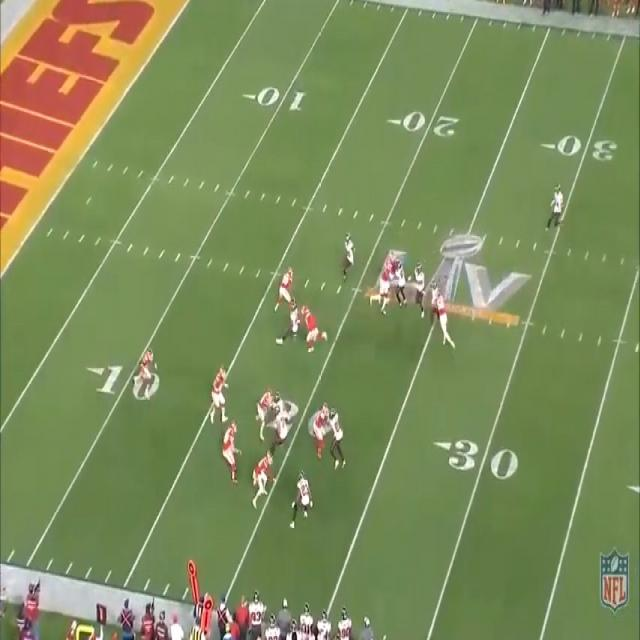players: (300, 299, 340, 363), (128, 335, 161, 402), (218, 418, 249, 487), (251, 449, 283, 514), (208, 355, 236, 422), (270, 292, 297, 355), (544, 166, 568, 236), (328, 403, 352, 472), (288, 467, 308, 533), (436, 290, 455, 354), (254, 374, 271, 442), (376, 254, 391, 331), (413, 251, 430, 316), (277, 256, 297, 311), (309, 402, 328, 459), (342, 232, 363, 281), (271, 403, 292, 452), (396, 251, 407, 317)
